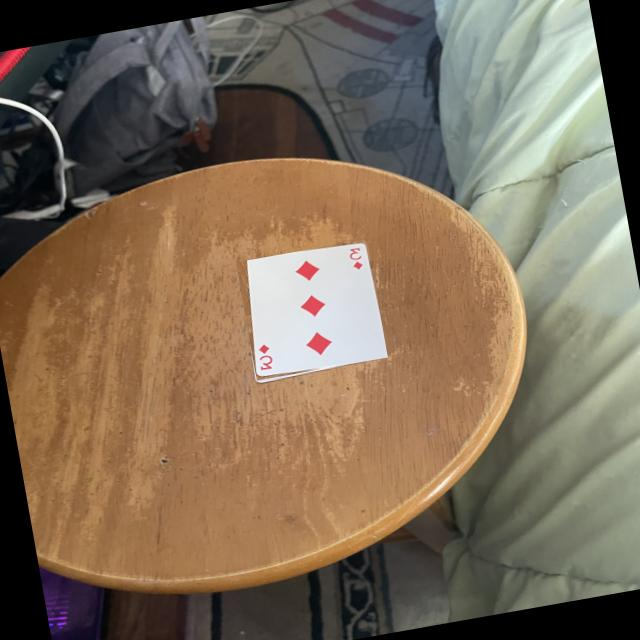Queen of diamonds: (251, 245, 387, 376)
